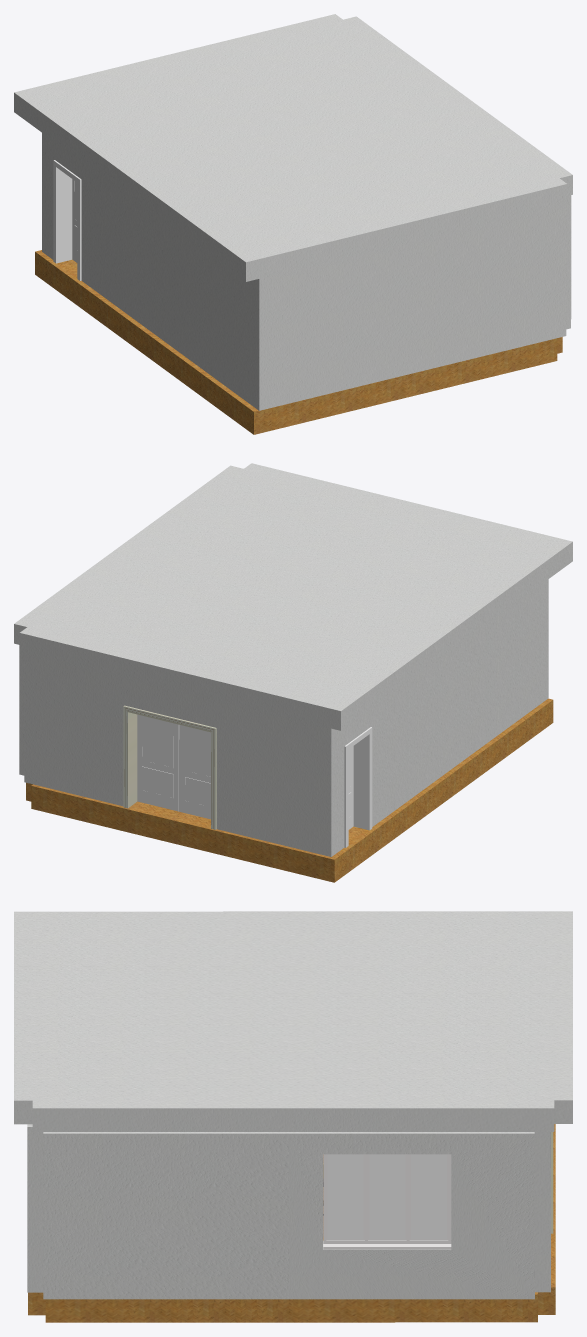
File: FloorPlan215_physics.fbx
The picture shows the model from 3 angles, top to bottom: view 1: azimuth 30°, elevation 25°; view 2: azimuth 150°, elevation 25°; view 3: azimuth 270°, elevation 25°; orthographic projection. The views are drawn at different scales.
Visible parts, largest first — view 1: FP215:Ceiling.002, FP215:Room.012, FP215:Floor, FP215:DoorFrame.005; view 2: FP215:Ceiling.002, FP215:Room.012, FP215:Floor, FP215:Door.009, FP215:Door.008, FP215:DoorFrame.006, FP215:DoorFrame.005; view 3: FP215:Ceiling.002, FP215:Room.012, FP215:Floor, FP215:polySurface15, FP215:polySurface21.
Boxes of the visible parts, x1,y1,x2,y2 form: FP215:Ceiling.002: [14, 14, 572, 281]; FP215:Room.012: [42, 133, 571, 410]; FP215:Floor: [35, 250, 562, 434]; FP215:DoorFrame.005: [53, 160, 81, 280]; FP215:Ceiling.002: [14, 463, 572, 730]; FP215:Room.012: [19, 579, 548, 856]; FP215:Floor: [26, 698, 553, 882]; FP215:Door.009: [137, 714, 179, 811]; FP215:Door.008: [179, 725, 210, 819]; FP215:DoorFrame.006: [123, 705, 216, 829]; FP215:DoorFrame.005: [344, 727, 372, 847]; FP215:Ceiling.002: [14, 911, 572, 1131]; FP215:Room.012: [27, 1124, 550, 1299]; FP215:Floor: [28, 1124, 555, 1322]; FP215:polySurface15: [327, 1154, 446, 1239]; FP215:polySurface21: [323, 1154, 451, 1249].
Size of the model in its own units: 732 by 374 by 871.
